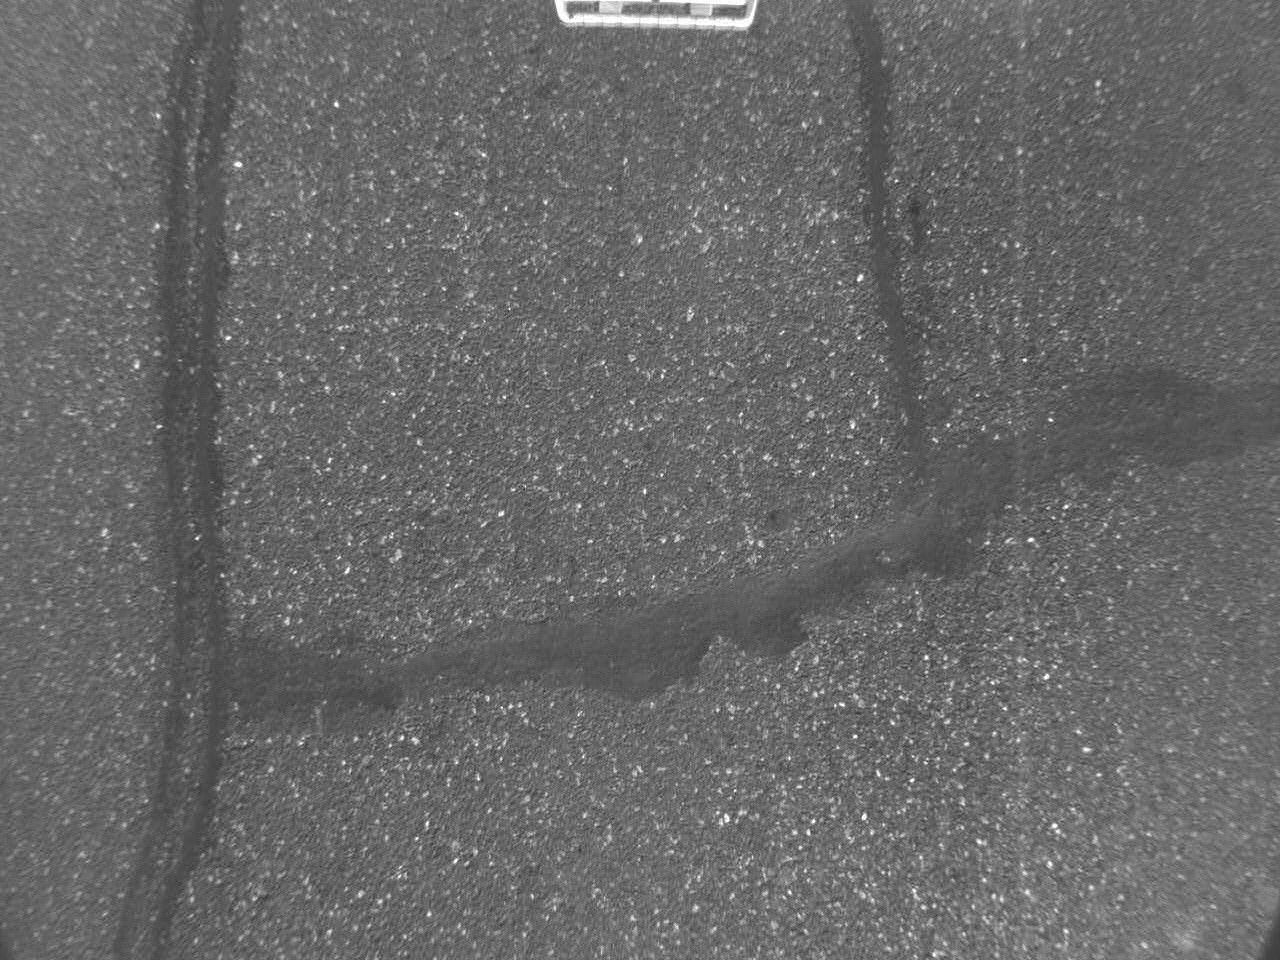sealed: (262, 358, 1273, 734), (103, 4, 253, 953)
